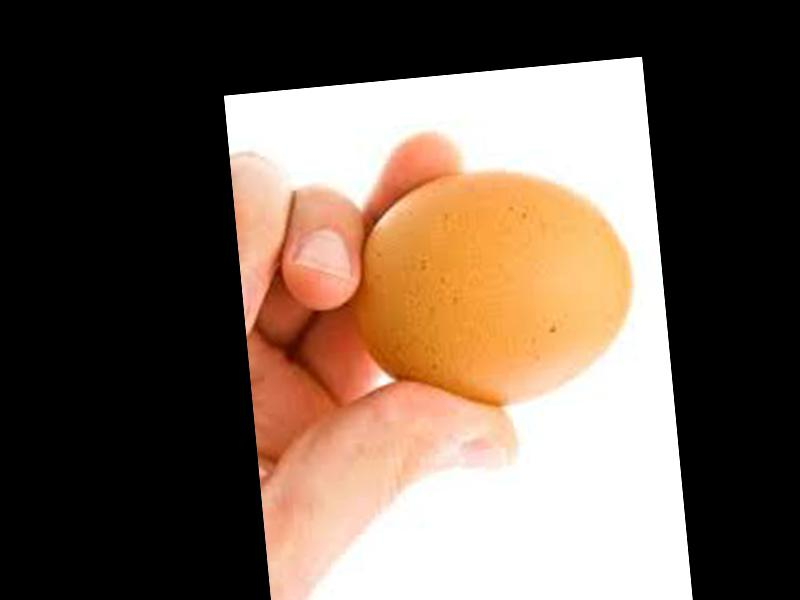Eggs: (349, 157, 644, 418)
